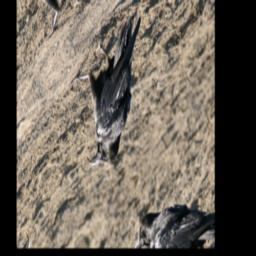Crow: (53, 0, 175, 183)
